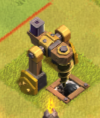dark_elixir_colector: (15, 14, 83, 102)
